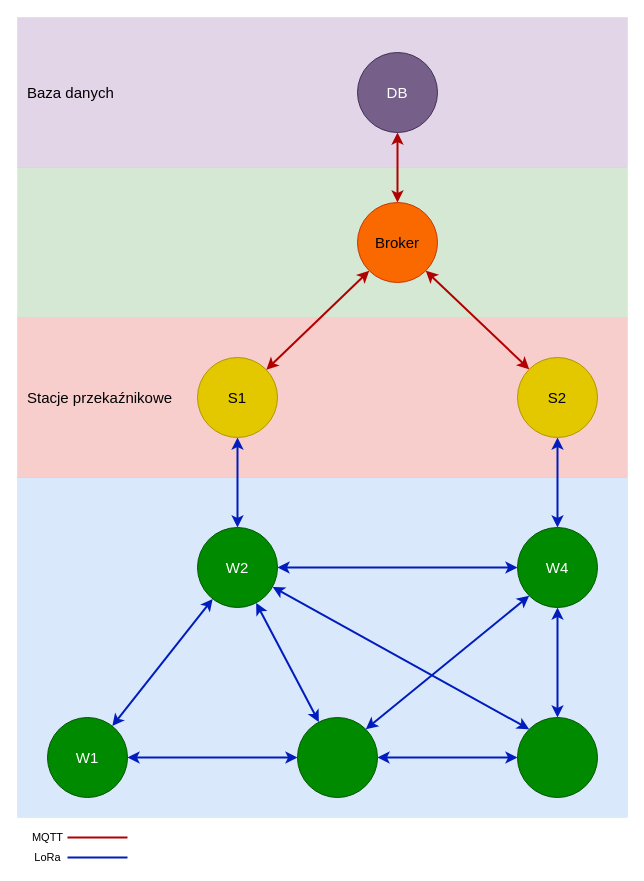
The diagram is 644 pixels wide and 881 high, and some of its shapes have lost their labels. Here are the shapes that lost their labels. From the top down, the box of each, then its label:
(17, 167, 627, 317): Broker wiadomości
(17, 477, 627, 817): Węzły sieci
(296, 716, 378, 798): W3
(516, 716, 598, 798): W5
